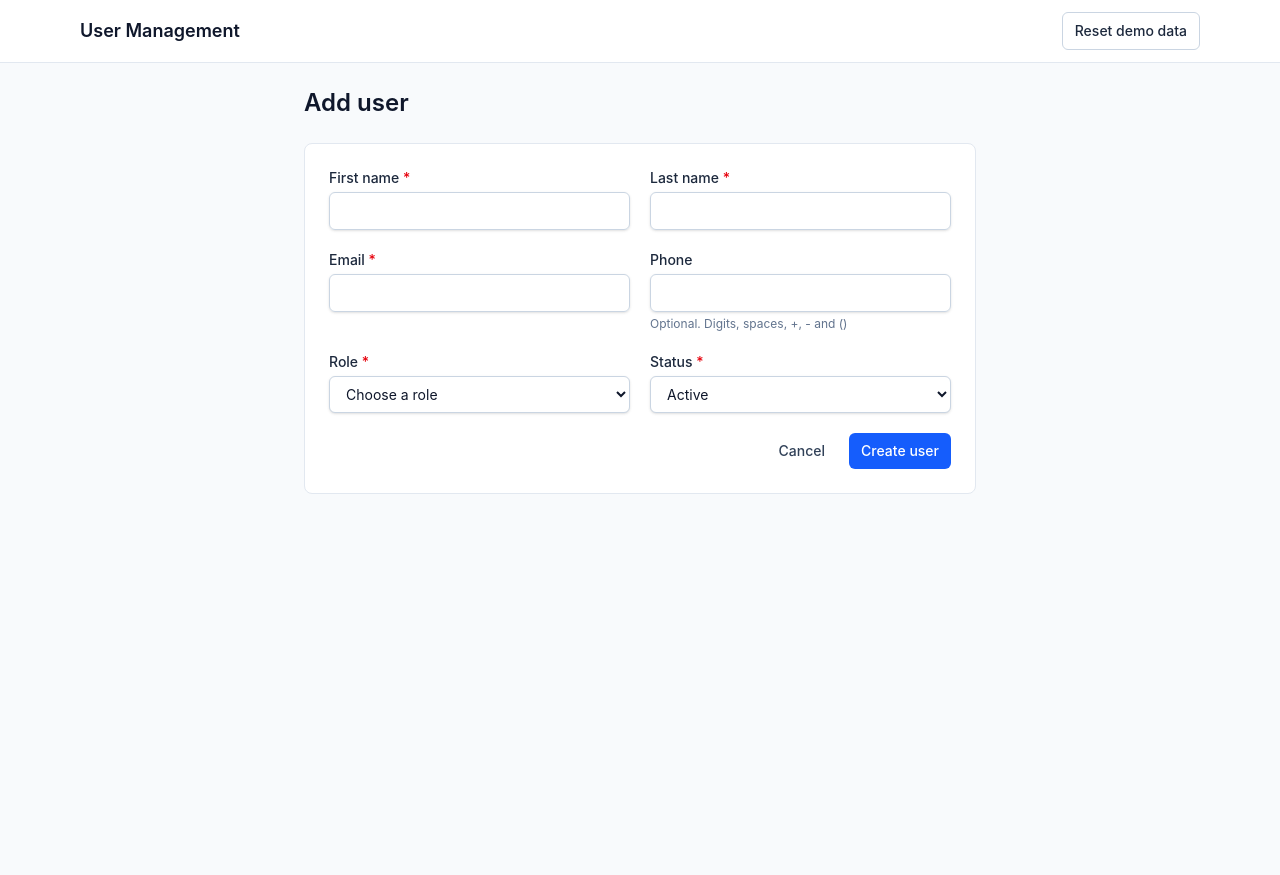
Test: CreateUserPage › creates the user, shows a toast and returns to the list with the user first
Type "Zoe" into the field labelled "First name *" at (480, 211), box x1=329 y1=192 x2=630 y2=230
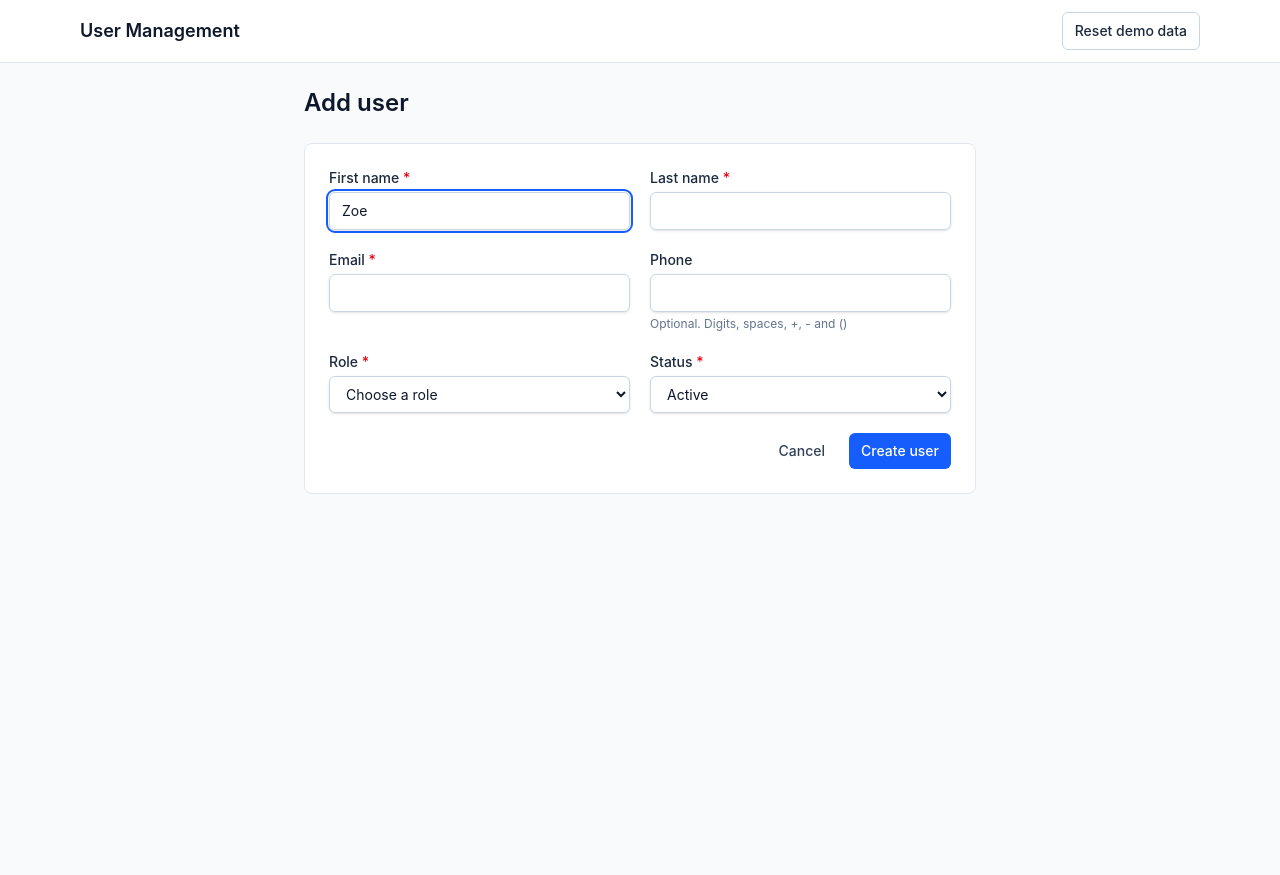
Type "Adams" into the field labelled "Last name *" at (800, 211), box x1=650 y1=192 x2=951 y2=230
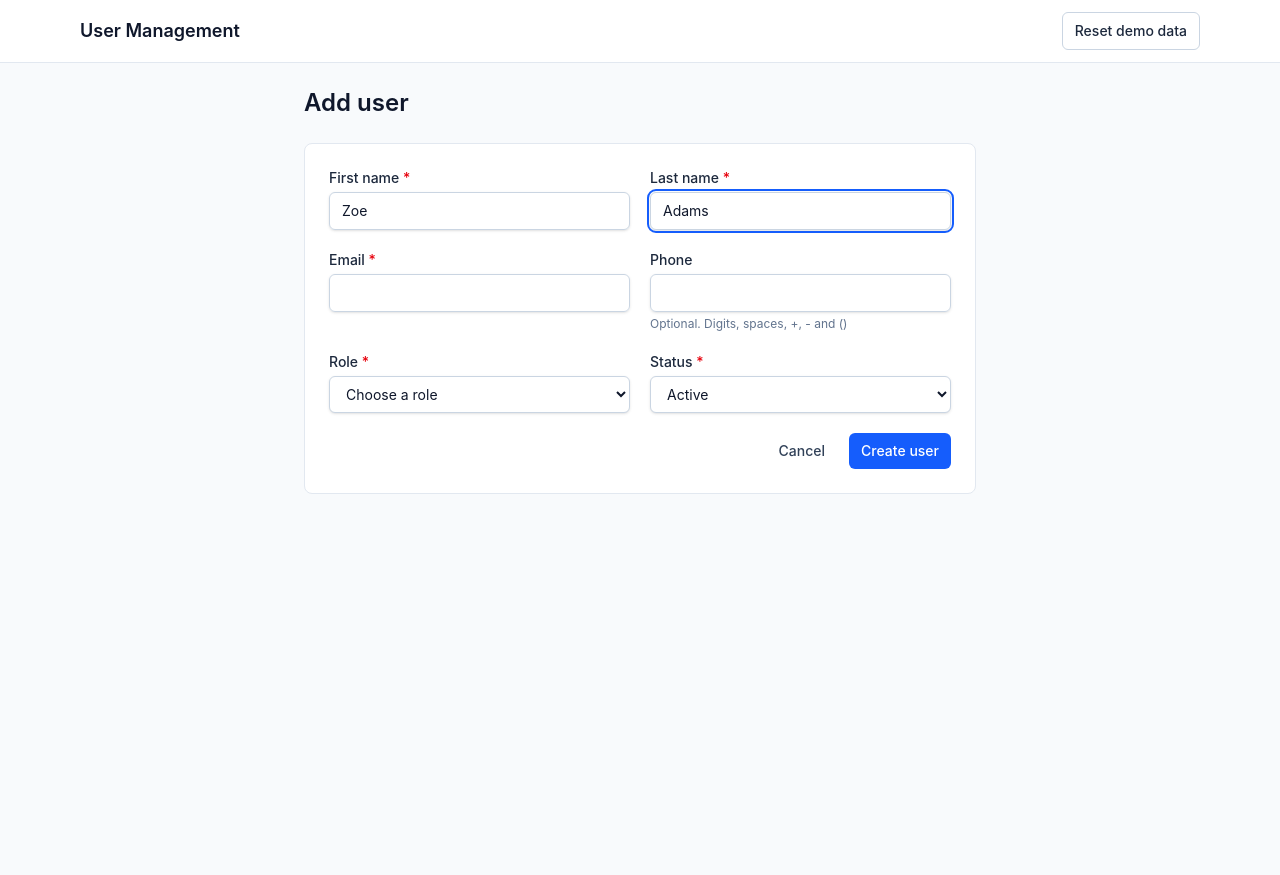
Type "zoe@example.com" into the field labelled "Email *" at (480, 293), box x1=329 y1=274 x2=630 y2=312
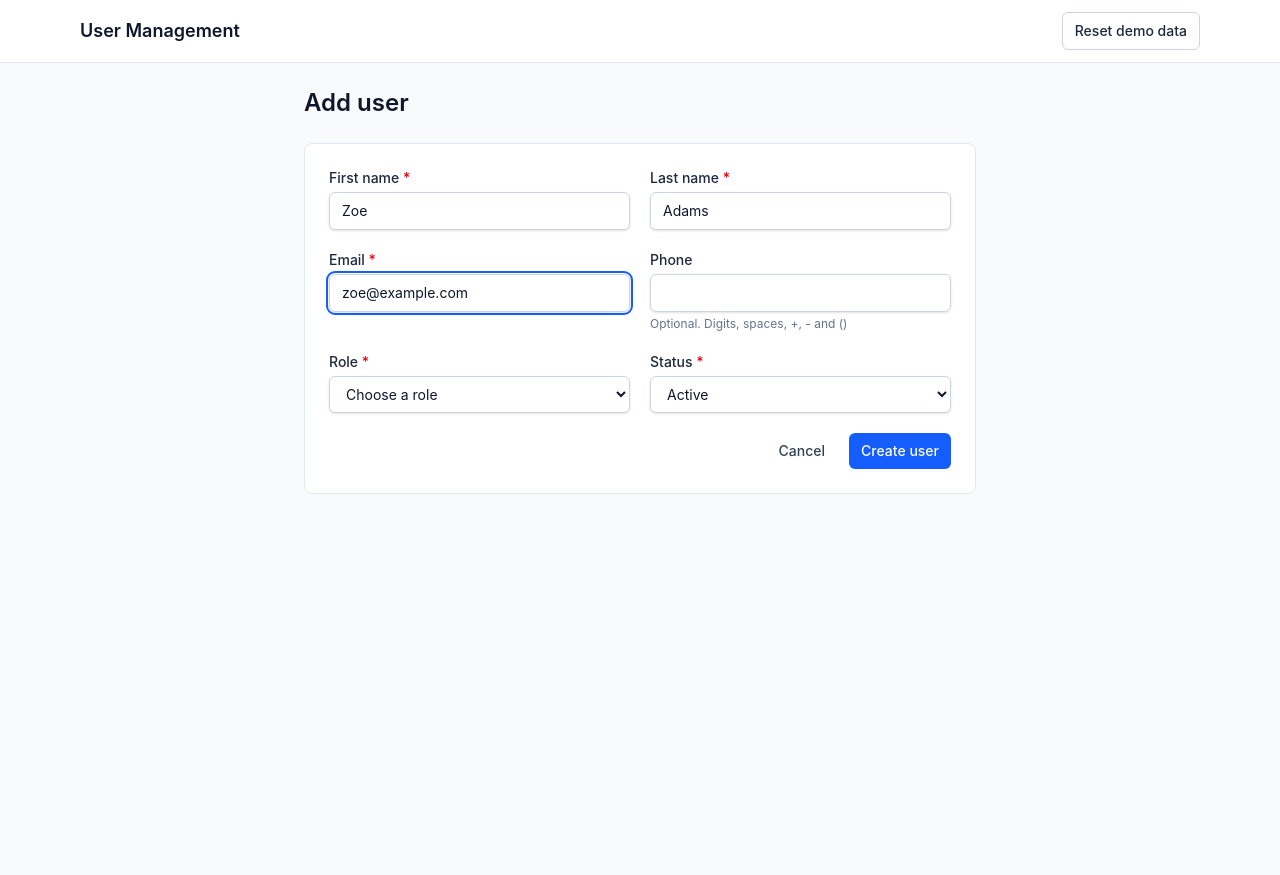
Type "+1 555 0100" into the field labelled "Phone" at (800, 293), box x1=650 y1=274 x2=951 y2=312
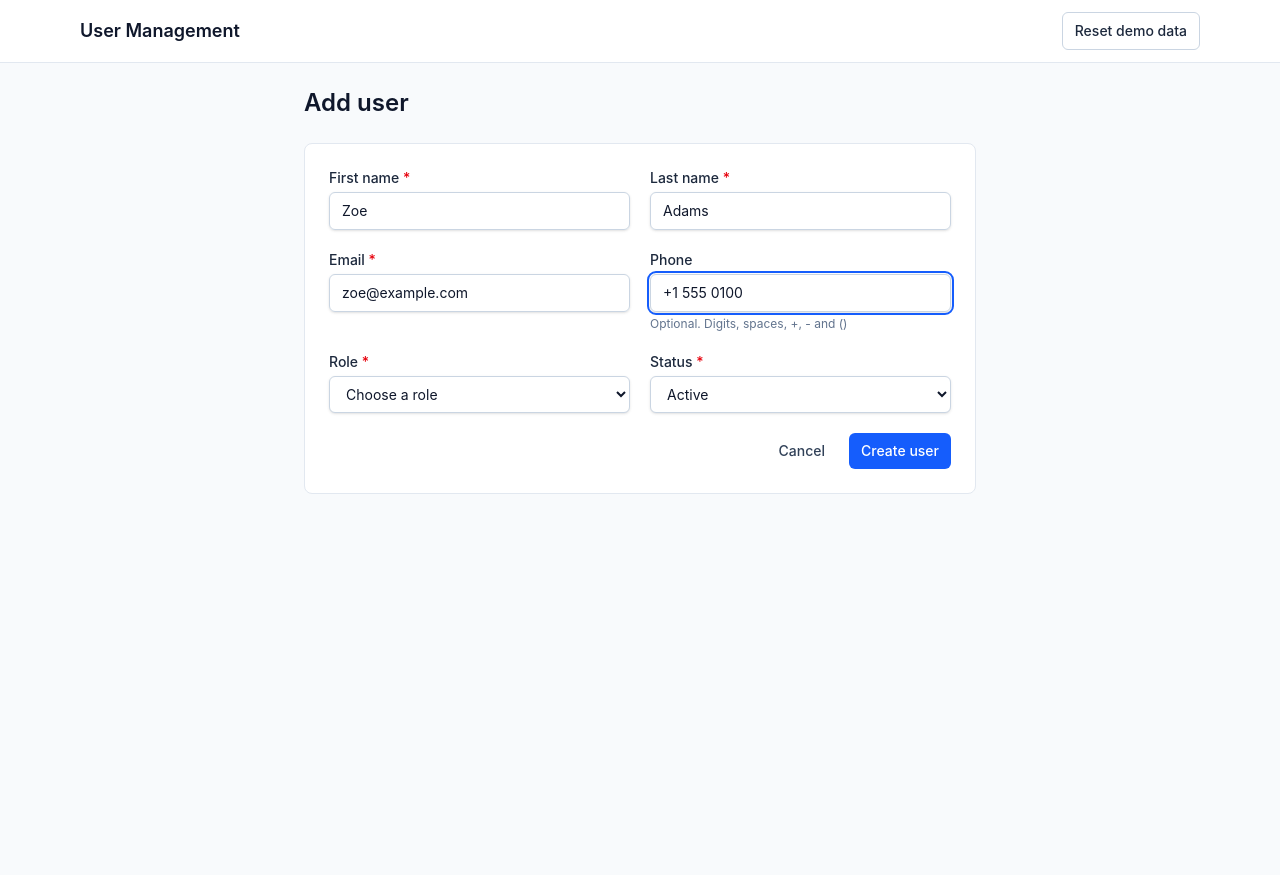
Select "Editor" in the dropdown labelled "Role *" at (480, 394), box x1=329 y1=376 x2=630 y2=413
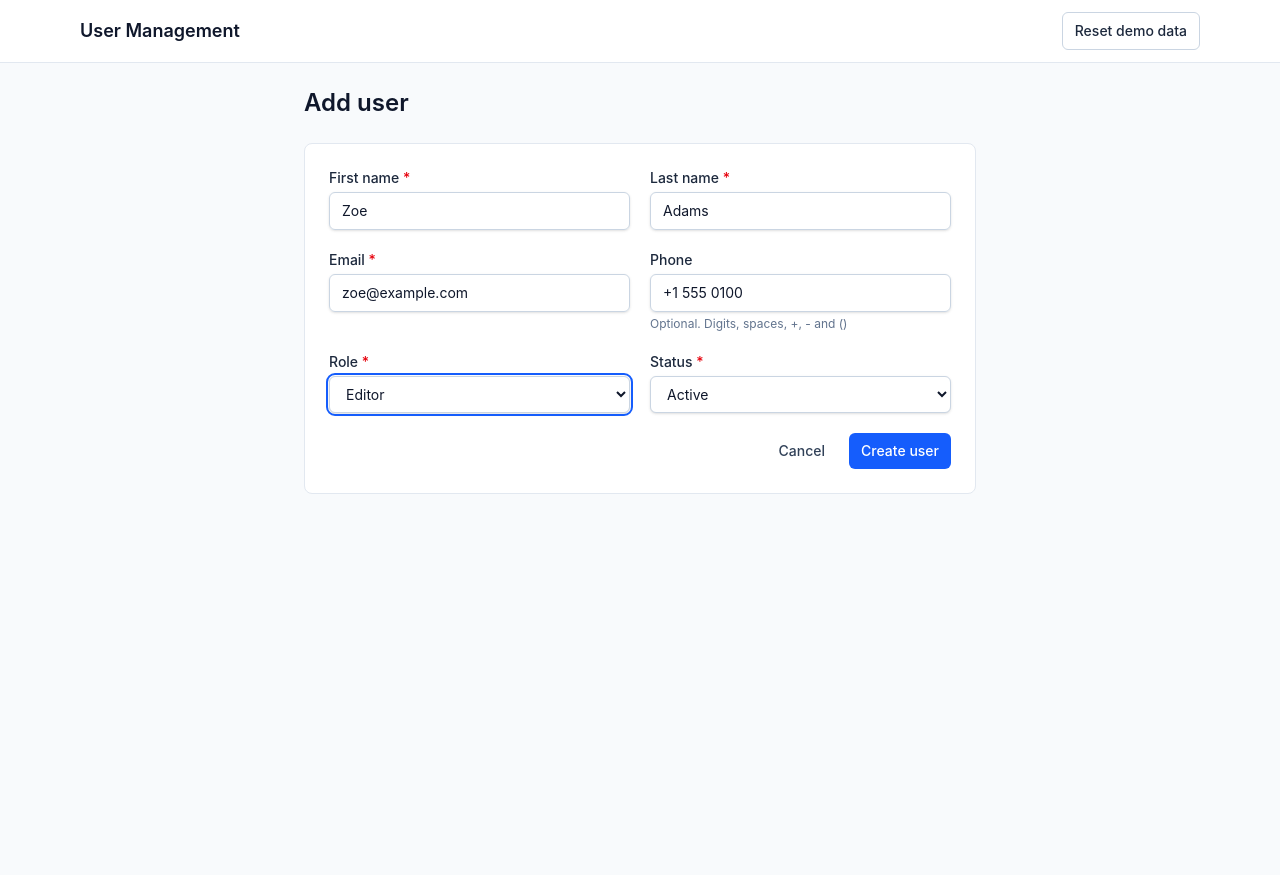
Click the button "Create user" at (900, 451), box x1=849 y1=433 x2=951 y2=469
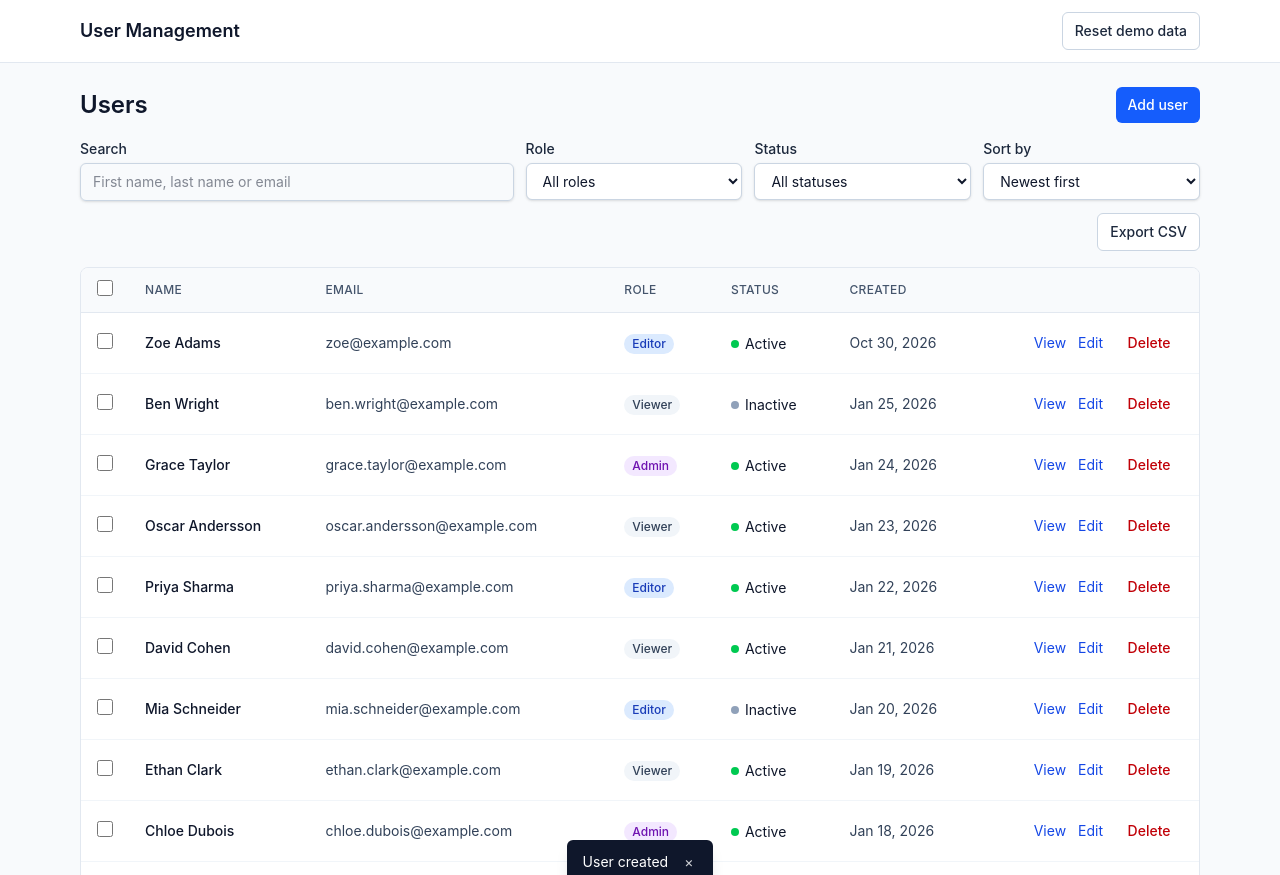
Now the message named "Notifications" shows "User created", box x1=583 y1=853 x2=668 y2=870
Now the column heading "Zoe Adams" is shown, box x1=129 y1=313 x2=309 y2=374
Now the text "zoe@example.com" is shown, box x1=309 y1=313 x2=608 y2=374
